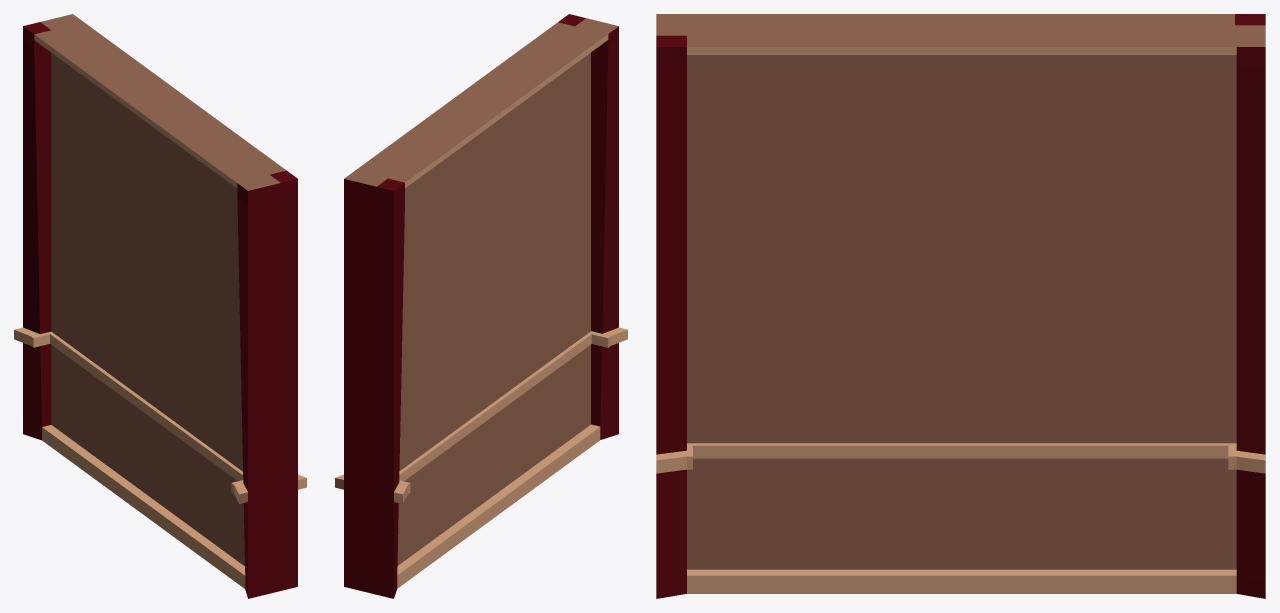
File: ModularWall1_Double.fbx
The picture shows the model from 3 angles, left to right: view 1: azimuth 30°, elevation 25°; view 2: azimuth 150°, elevation 25°; view 3: azimuth 270°, elevation 25°; orthographic projection. The views are drawn at different scales.
Visible parts, largest first — view 1: Modular_Wall_1.004; view 2: Modular_Wall_1.004; view 3: Modular_Wall_1.004.
Boxes of the visible parts, x1,y1,x2,y2 form: Modular_Wall_1.004: (14,14,306,598); Modular_Wall_1.004: (335,14,627,598); Modular_Wall_1.004: (656,14,1265,598).
Size of the model in its own units: 86.92 by 500 by 500.
